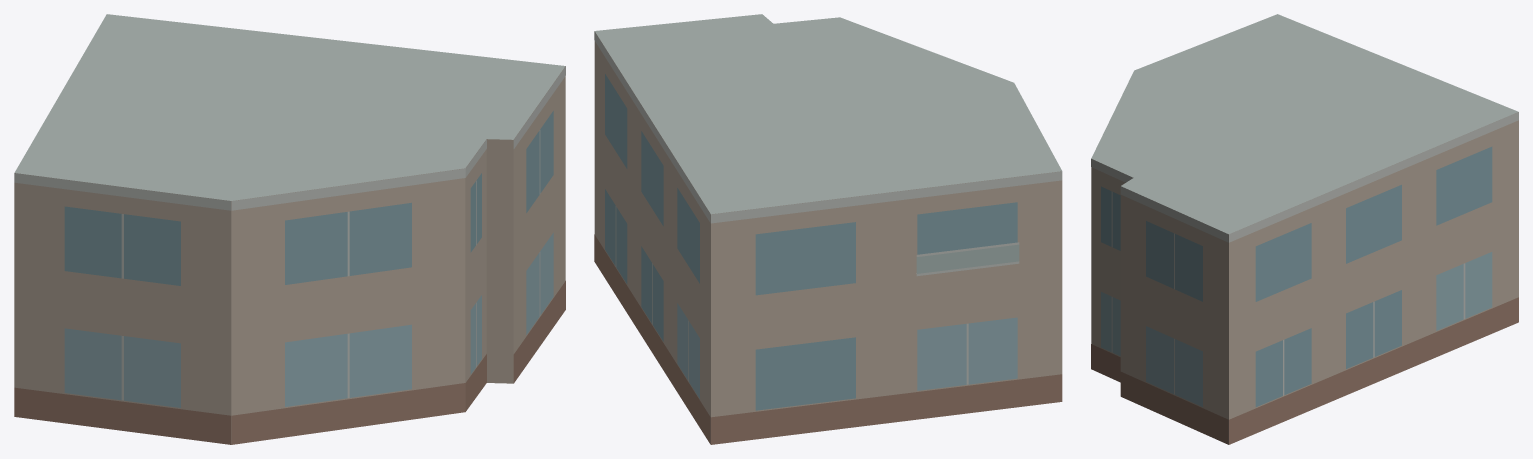
Rendered from survey-upis-32927534.glb.
3 views of the same model, side by side, from view 1: azimuth 30°, elevation 25°; view 2: azimuth 150°, elevation 25°; view 3: azimuth 270°, elevation 25° (orthographic). The views are drawn at different scales.
Visible parts, largest first — view 1: survey-upis-32927534.tmp; view 2: survey-upis-32927534.tmp; view 3: survey-upis-32927534.tmp.
Part boxes in pixels (bbox=[...]): survey-upis-32927534.tmp: bbox=[14, 14, 565, 444]; survey-upis-32927534.tmp: bbox=[594, 14, 1062, 444]; survey-upis-32927534.tmp: bbox=[1091, 14, 1518, 444].
Bounding box in the file's own units: 13.7 × 6.1 × 11.24.
